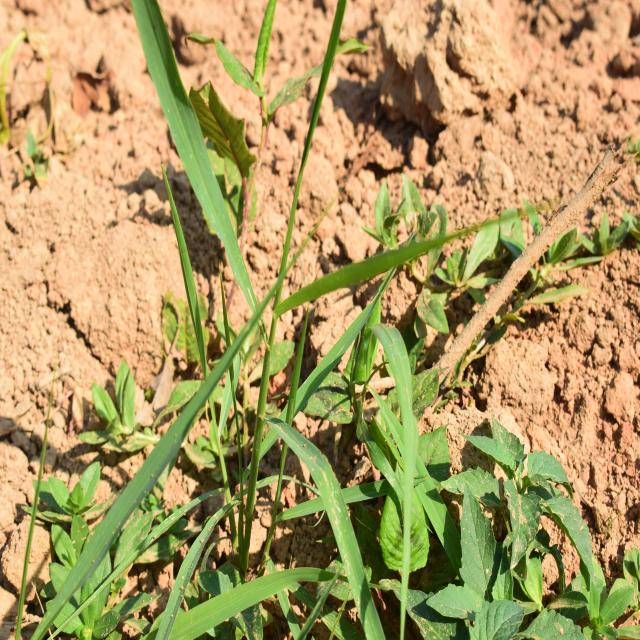green_foxtail: (103, 67, 444, 482)
